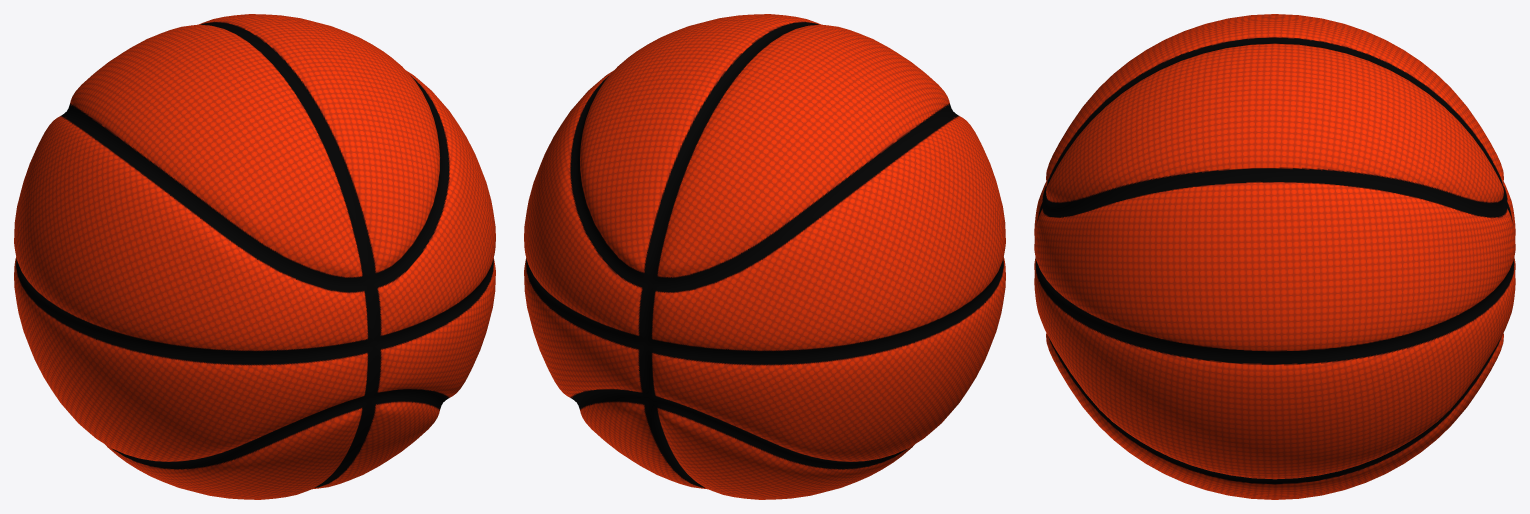
The model's file is basketball.glb.
3 renders of one model, left to right at view 1: azimuth 30°, elevation 25°; view 2: azimuth 150°, elevation 25°; view 3: azimuth 270°, elevation 25°, orthographic.
Visible parts, largest first — view 1: Basketball_ball; view 2: Basketball_ball; view 3: Basketball_ball.
Part boxes in pixels (left/top/right/bottom): Basketball_ball: left=14, top=14, right=495, bottom=499; Basketball_ball: left=524, top=14, right=1005, bottom=499; Basketball_ball: left=1034, top=14, right=1515, bottom=499.
Size of the model in its own units: 0.2387 by 0.2387 by 0.2384.
1 material, 1 textured.
